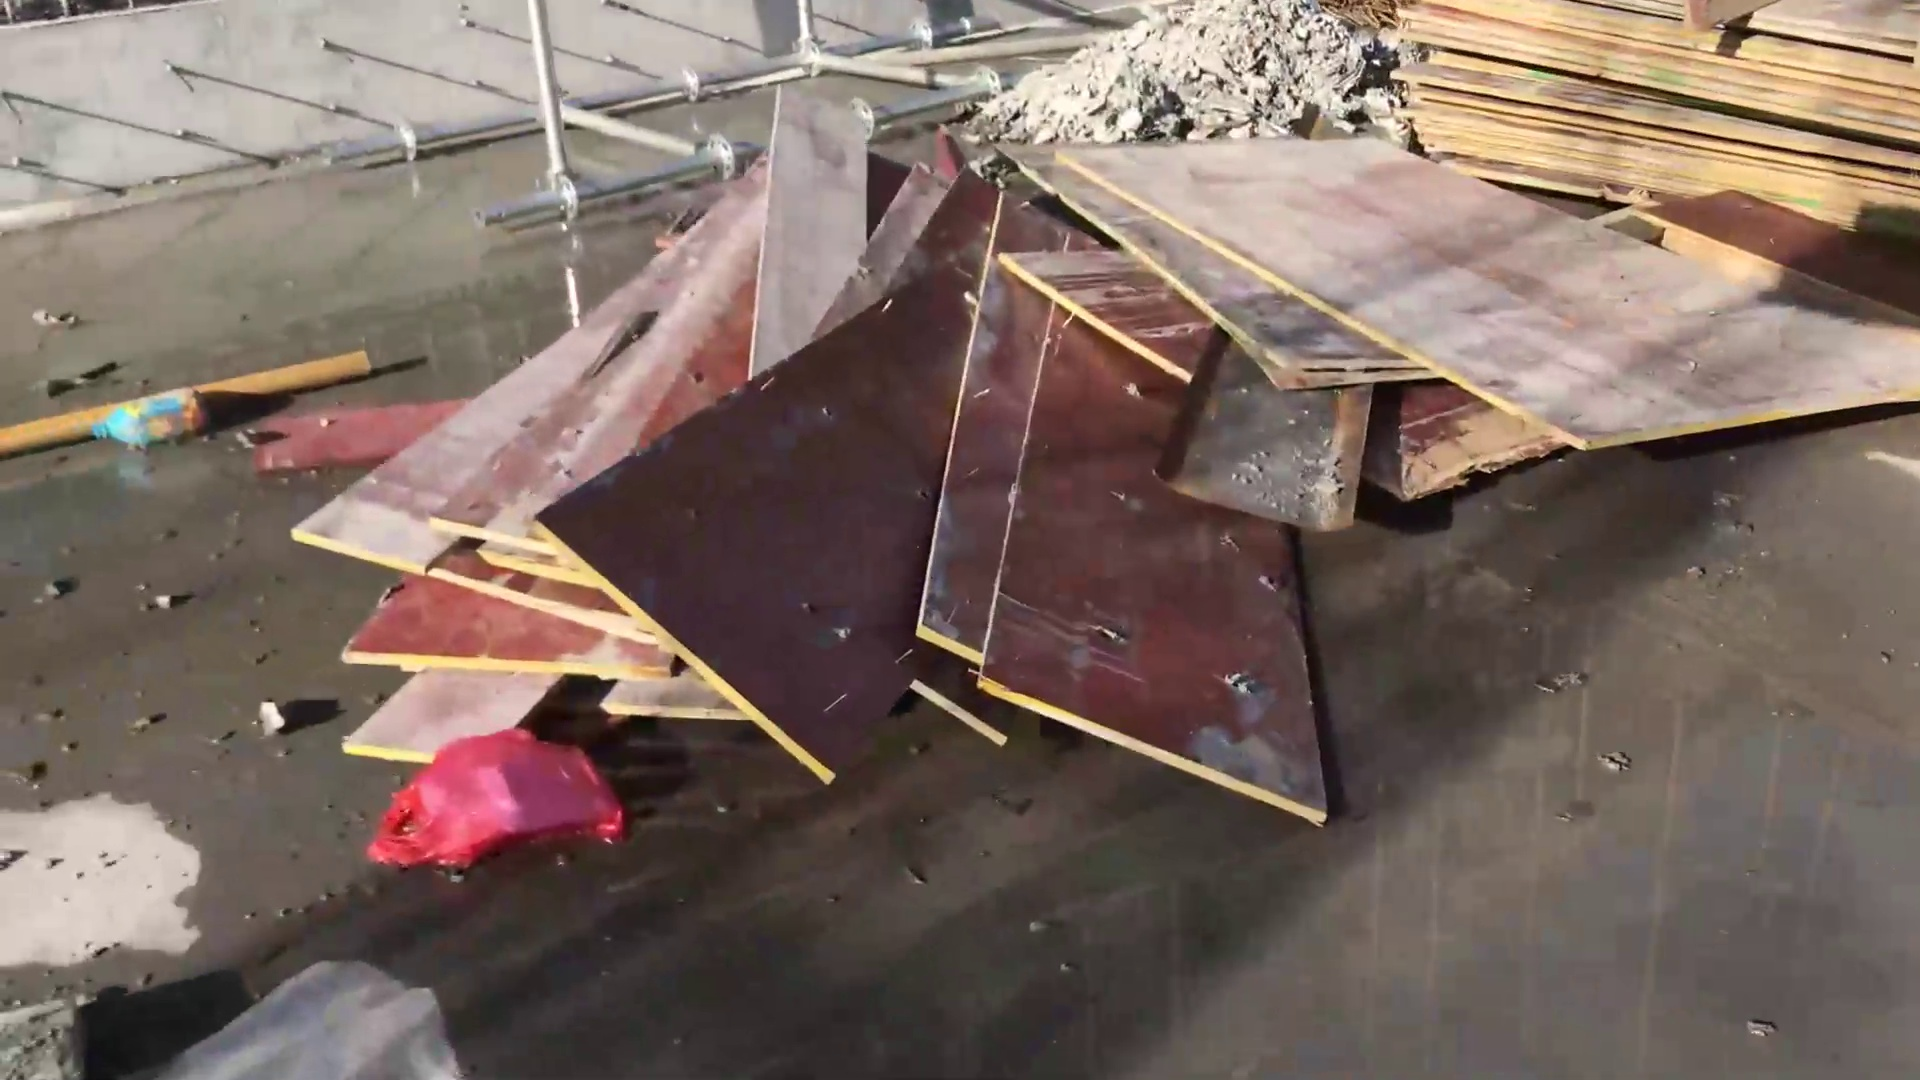board: (1381, 1, 1917, 291)
